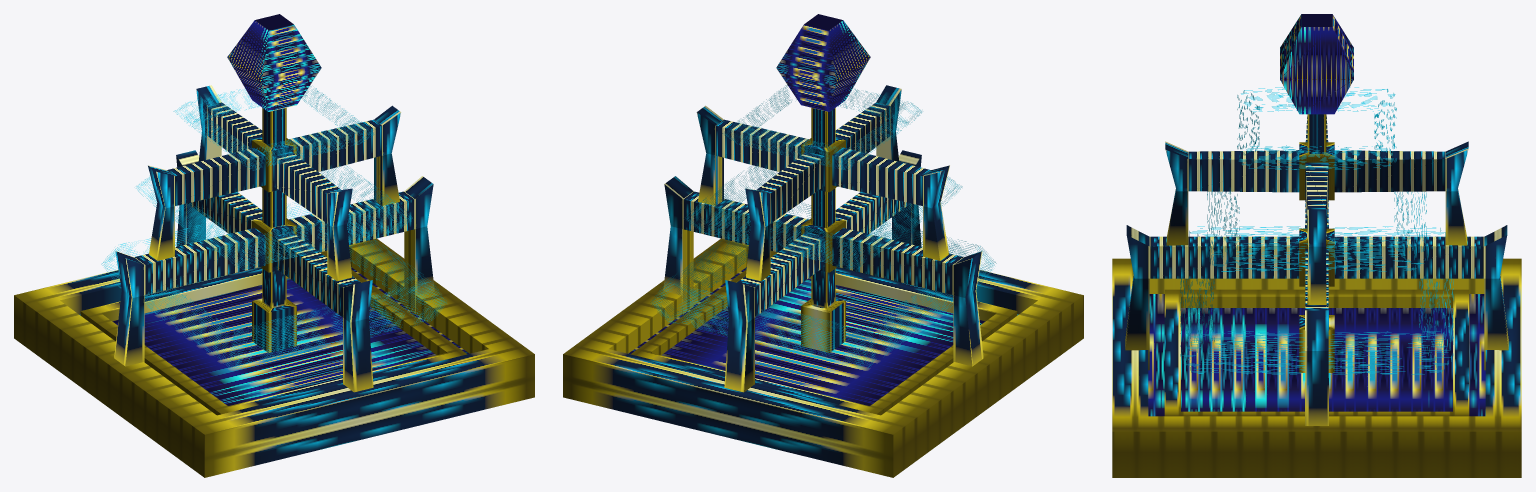
The model's file is temporal_relay.obj.
3 renders of one model, left to right at view 1: azimuth 30°, elevation 25°; view 2: azimuth 150°, elevation 25°; view 3: azimuth 270°, elevation 25°, orthographic. The views are drawn at different scales.
Visible parts, largest first — view 1: Cube; view 2: Cube; view 3: Cube.
Part boxes in pixels (x1,y1,x2,y2): Cube: (14,14,534,477); Cube: (563,14,1083,477); Cube: (1112,14,1521,477).
Size of the model in its own units: 1 by 1 by 1.
